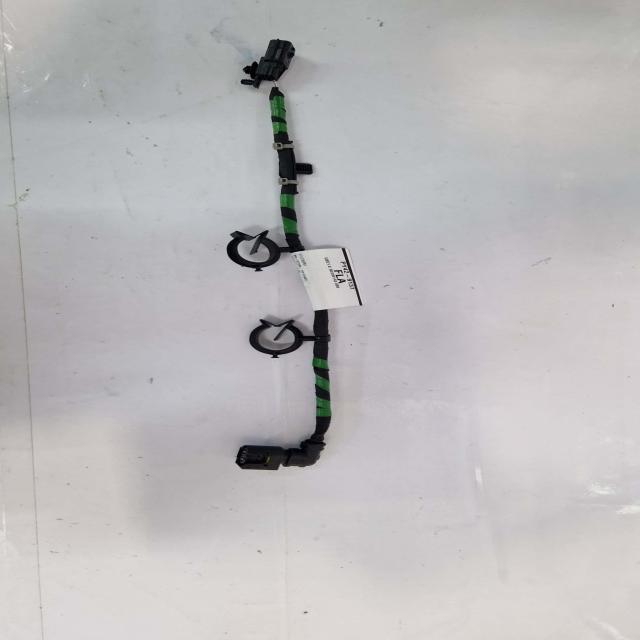AJ20_D6_Cable: (270, 86, 312, 254), (312, 309, 332, 436)
Clip: (248, 319, 330, 358), (226, 231, 290, 271)
Connector: (235, 439, 326, 470), (241, 39, 295, 86)
Info: (290, 248, 363, 311)
strap: (272, 142, 297, 150), (279, 178, 299, 185)
